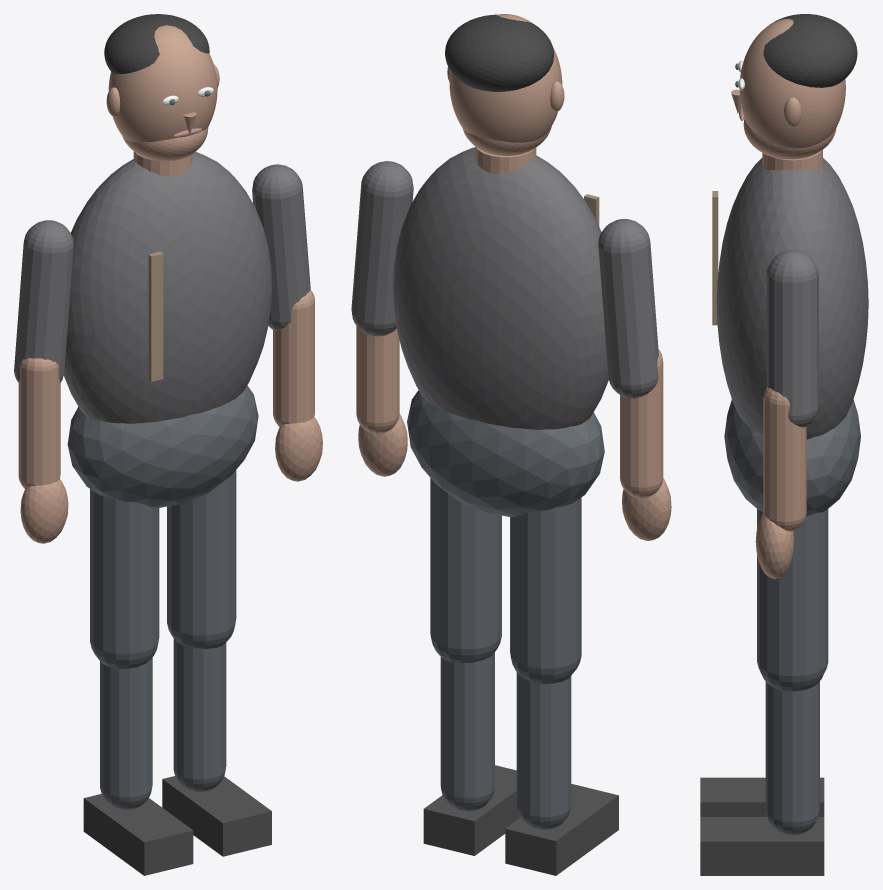
Rendered from council-trickster-human-v1.glb.
3 views of the same model, side by side, from view 1: azimuth 30°, elevation 25°; view 2: azimuth 150°, elevation 25°; view 3: azimuth 270°, elevation 25° (orthographic). The views are drawn at different scales.
Visible parts, largest first — view 1: trickster-torso, trickster-pelvis, trickster-thigh-left, trickster-thigh-right, trickster-head, trickster-calf-right, trickster-calf-left, trickster-upper-arm-left, trickster-upper-arm-right, trickster-shoe-left, trickster-shoe-right, trickster-forearm-left (+7 smaller); view 2: trickster-torso, trickster-pelvis, trickster-thigh-left, trickster-thigh-right, trickster-upper-arm-left, trickster-calf-left, trickster-calf-right, trickster-upper-arm-right, trickster-hair-cap, trickster-shoe-left, trickster-head, trickster-shoe-right (+6 smaller); view 3: trickster-torso, trickster-thigh-right, trickster-upper-arm-right, trickster-calf-right, trickster-head, trickster-pelvis, trickster-shoe-right, trickster-forearm-right, trickster-hair-cap, trickster-shoe-left, trickster-hand-right, trickster-jaw (+3 smaller).
Boxes of the visible parts, box(x1,y1,x2,y2) form: trickster-torso: box(63, 152, 271, 423); trickster-pelvis: box(67, 385, 258, 507); trickster-thigh-left: box(90, 489, 159, 668); trickster-thigh-right: box(167, 470, 236, 649); trickster-head: box(108, 25, 217, 142); trickster-calf-right: box(173, 638, 226, 791); trickster-calf-left: box(100, 658, 152, 809); trickster-upper-arm-left: box(14, 220, 73, 382); trickster-upper-arm-right: box(252, 164, 310, 330); trickster-shoe-left: box(83, 794, 193, 875); trickster-shoe-right: box(162, 776, 271, 856); trickster-forearm-left: box(18, 358, 60, 488); trickster-torso: box(393, 147, 608, 429); trickster-pelvis: box(407, 390, 604, 516); trickster-thigh-left: box(510, 497, 581, 683); trickster-thigh-right: box(430, 478, 501, 663); trickster-upper-arm-left: box(598, 219, 658, 398); trickster-calf-left: box(516, 672, 571, 829); trickster-calf-right: box(440, 652, 494, 810); trickster-upper-arm-right: box(351, 161, 413, 336); trickster-hair-cap: box(445, 14, 553, 91); trickster-shoe-left: box(505, 784, 618, 875); trickster-head: box(449, 14, 562, 142); trickster-shoe-right: box(423, 765, 520, 855); trickster-torso: box(716, 158, 868, 439); trickster-thigh-right: box(757, 508, 828, 691); trickster-upper-arm-right: box(766, 250, 818, 427); trickster-calf-right: box(765, 681, 819, 834); trickster-head: box(739, 19, 845, 148); trickster-pelvis: box(724, 399, 860, 515); trickster-shoe-right: box(700, 817, 824, 875); trickster-forearm-right: box(763, 386, 806, 531); trickster-hair-cap: box(763, 14, 857, 87); trickster-shoe-left: box(700, 777, 824, 816); trickster-hand-right: box(755, 513, 794, 578); trickster-jaw: box(743, 118, 836, 159).
Bounding box in the file's own units: 0.6922 × 1.77 × 0.3292.
